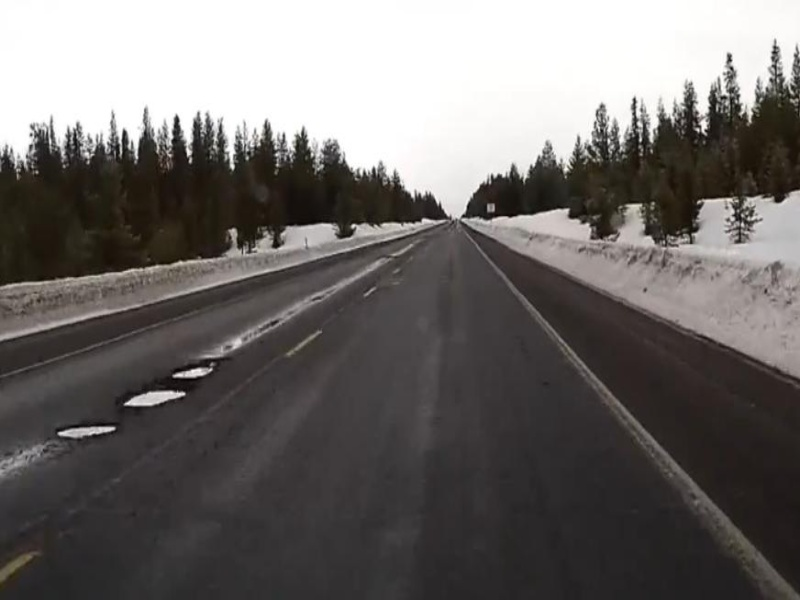pothole: (109, 387, 190, 414), (51, 420, 123, 447), (159, 359, 225, 382)
